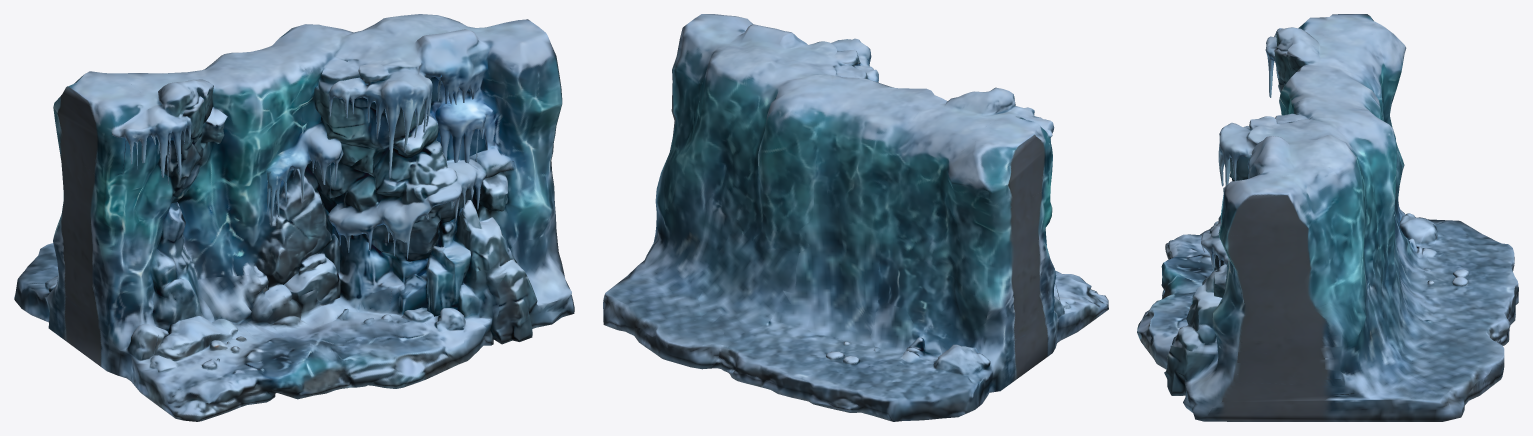
The model's file is wall_segment.glb.
3 views of the same model, side by side, from view 1: azimuth 30°, elevation 25°; view 2: azimuth 150°, elevation 25°; view 3: azimuth 270°, elevation 25° (orthographic). The views are drawn at different scales.
Parts seen in each view (by area): view 1: geometry_0; view 2: geometry_0; view 3: geometry_0.
Boxes of the visible parts, x1=… form: geometry_0: x1=14, y1=14, x2=574, y2=421; geometry_0: x1=603, y1=14, x2=1108, y2=421; geometry_0: x1=1137, y1=14, x2=1518, y2=421.
Bounding box in the file's own units: 0.96 × 0.6006 × 0.856.
1 material, 1 textured.
